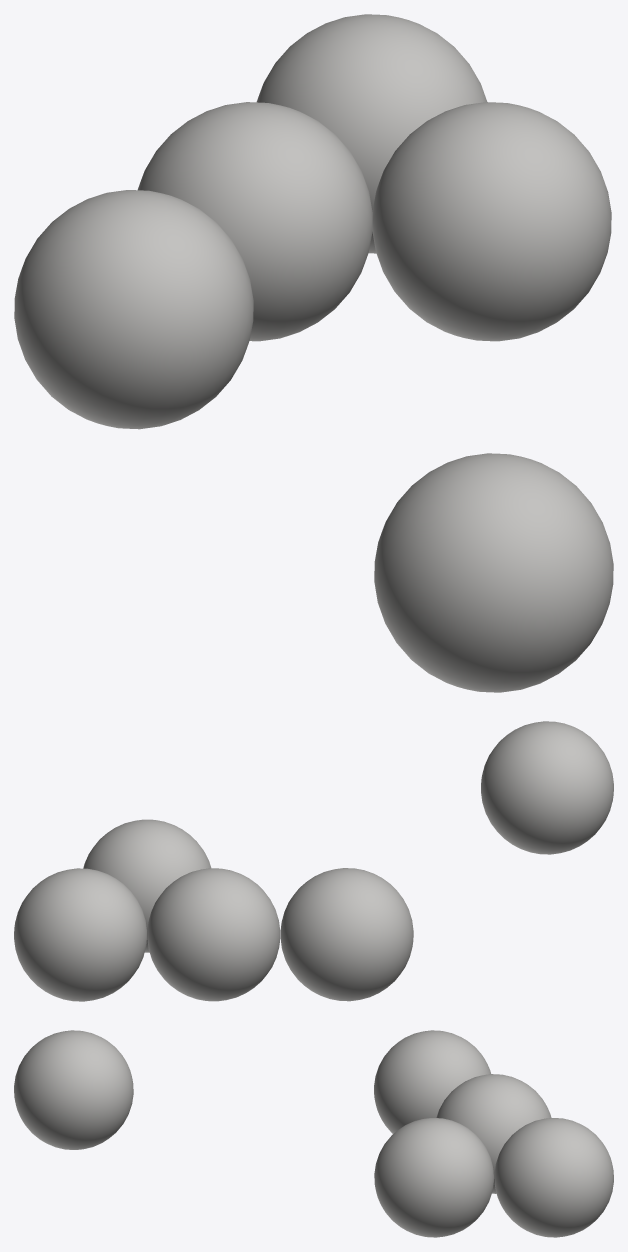
Rendered from mianxin1_3.FBX.
3 renders of one model, top to bottom at view 1: azimuth 30°, elevation 25°; view 2: azimuth 150°, elevation 25°; view 3: azimuth 270°, elevation 25°, orthographic. The views are drawn at different scales.
Visible parts, largest first — view 1: GeoSphere598; view 2: GeoSphere598; view 3: GeoSphere598.
Boxes of the visible parts, x1,y1,x2,y2 form: GeoSphere598: (14, 14, 613, 692); GeoSphere598: (14, 721, 613, 1001); GeoSphere598: (14, 1030, 613, 1237).
Bounding box in the file's own units: 109 × 40 × 200.
